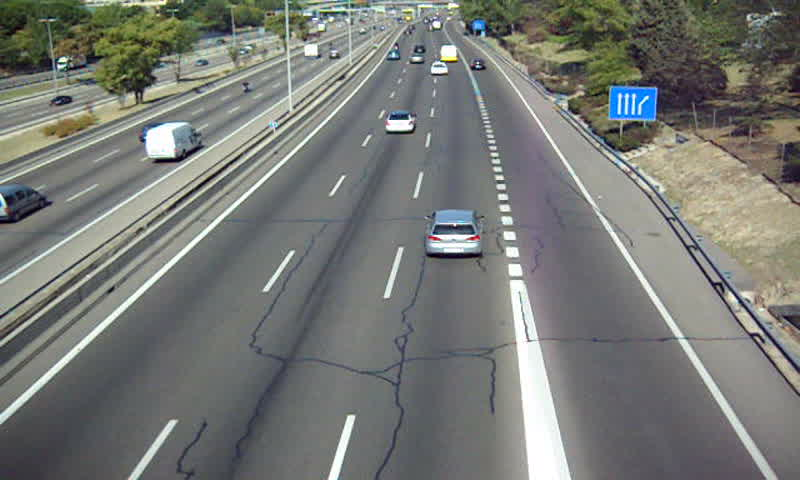car: (425, 210, 482, 254), (384, 111, 415, 134), (429, 62, 449, 76), (469, 59, 486, 72)
